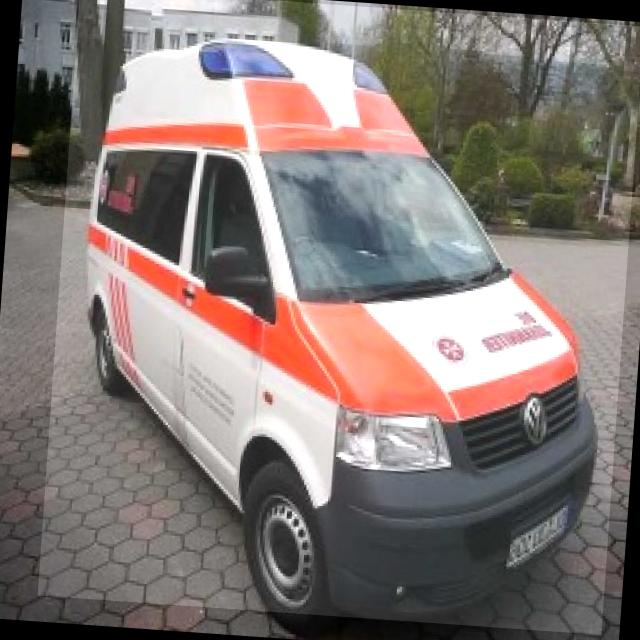ambulance: (37, 0, 640, 634)
